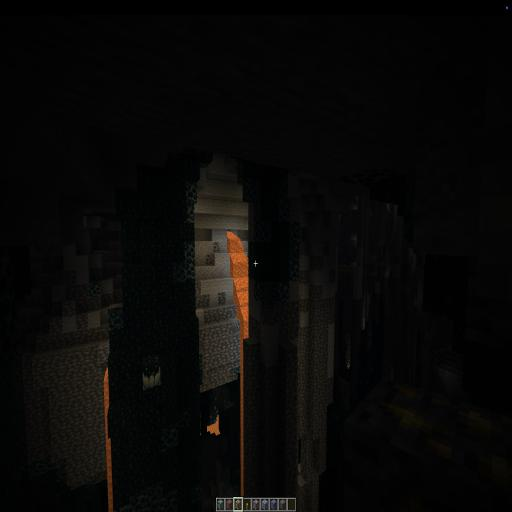coal ore: (211, 240, 221, 254), (205, 253, 213, 266)
